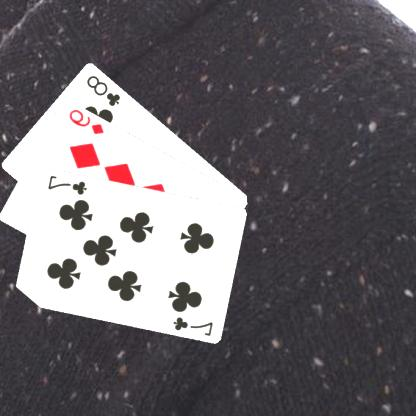7C: (46, 172, 90, 196), (172, 314, 216, 338)
8C: (85, 72, 124, 107)
9D: (68, 106, 107, 136)
